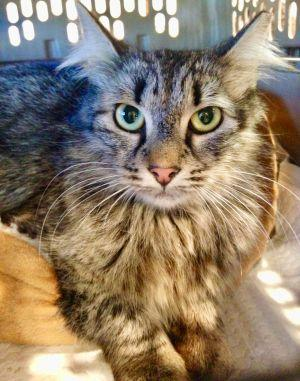persian: (57, 1, 286, 228)
